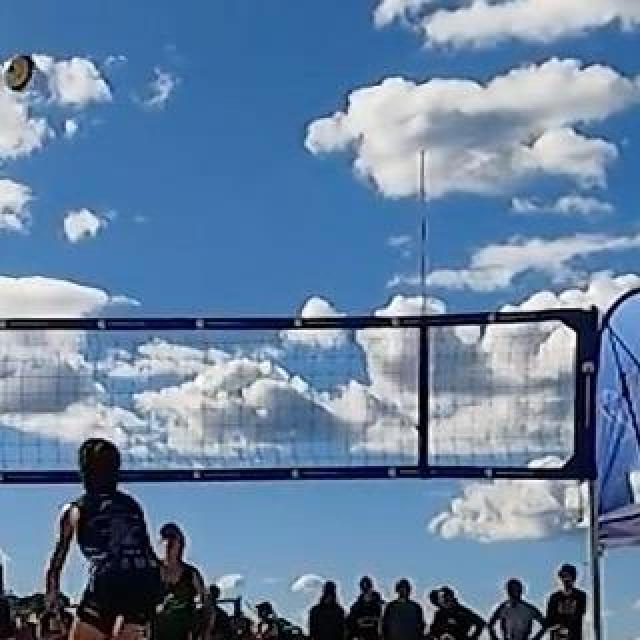volleyball: (3, 56, 31, 90)
